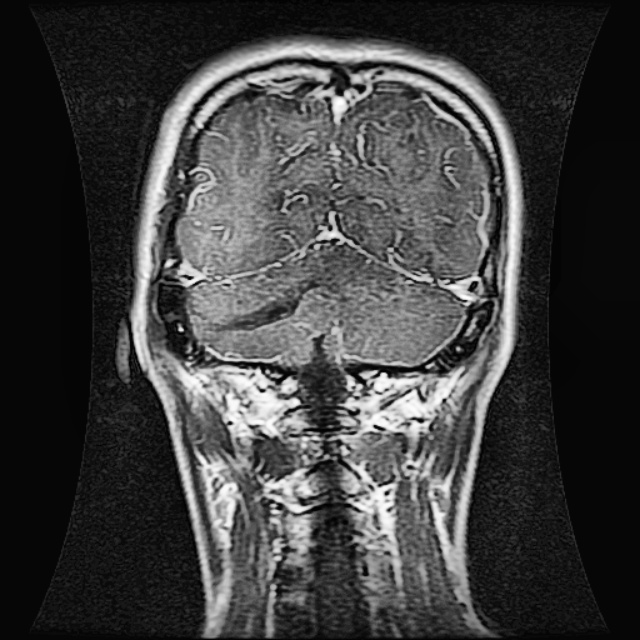Meningioma: (222, 283, 312, 332)
